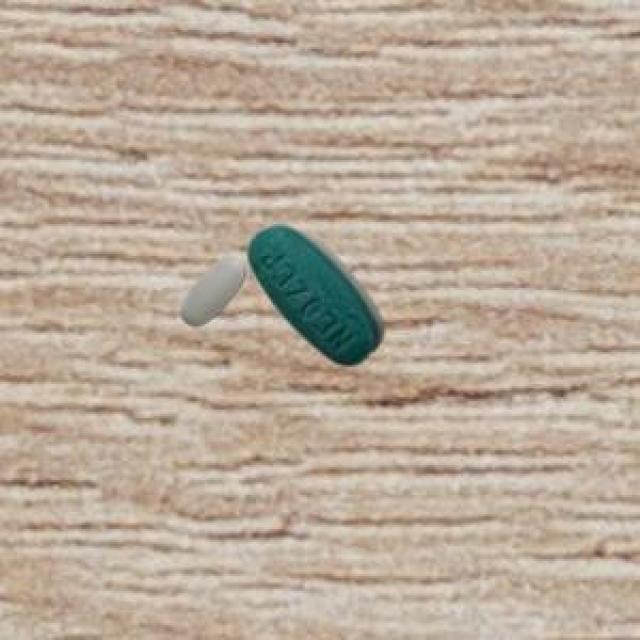Neozep: (167, 211, 401, 382)
